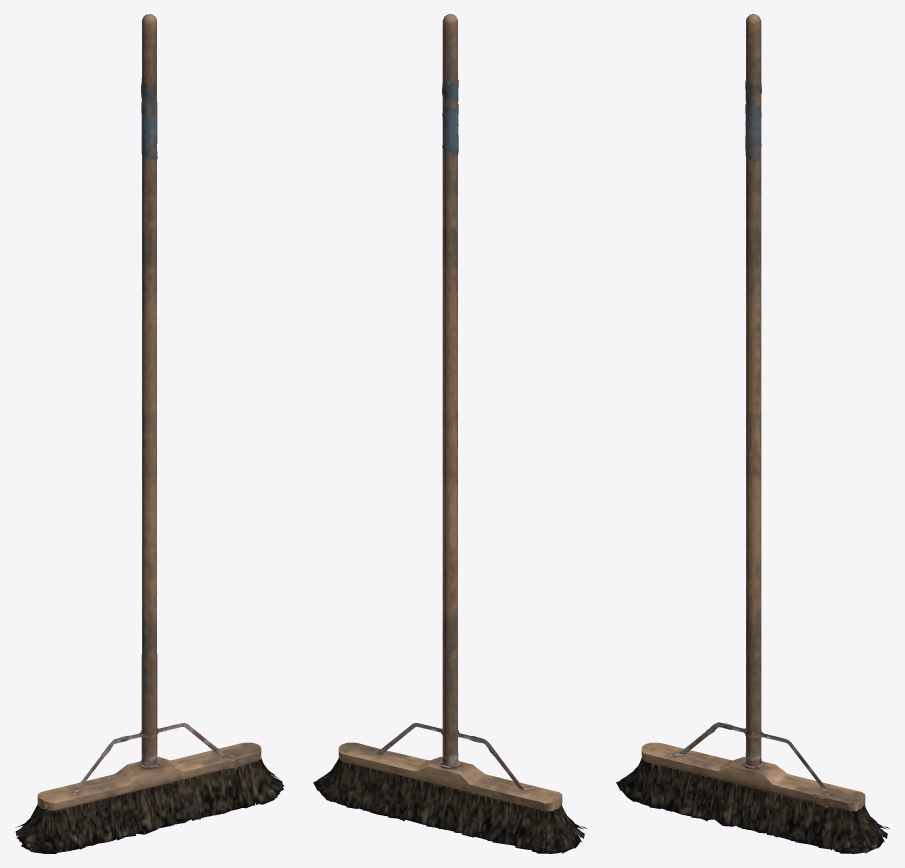
Rendered from broom.glb.
The picture shows the model from 3 angles, left to right: view 1: azimuth 30°, elevation 25°; view 2: azimuth 150°, elevation 25°; view 3: azimuth 330°, elevation 25°; orthographic projection.
Parts seen in each view (by area): view 1: mesh; view 2: mesh; view 3: mesh.
Boxes of the visible parts, box(x1,y1,x2,y2) form: mesh: box(15, 14, 283, 853); mesh: box(313, 14, 586, 853); mesh: box(616, 14, 889, 853).
Size of the model in its own units: 0.4894 by 1.45 by 0.1123.
1 material, 1 textured.
